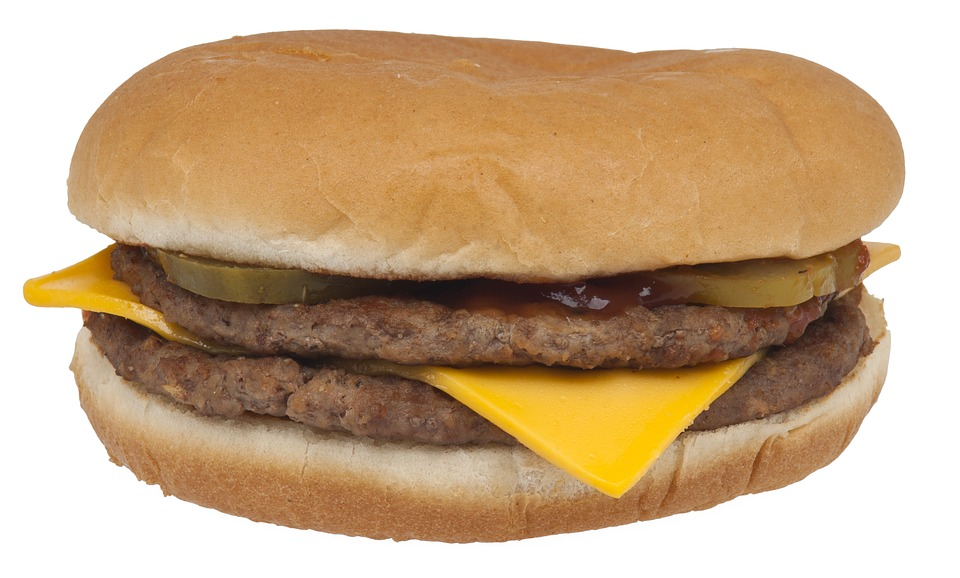hamburger: (35, 28, 925, 578)
